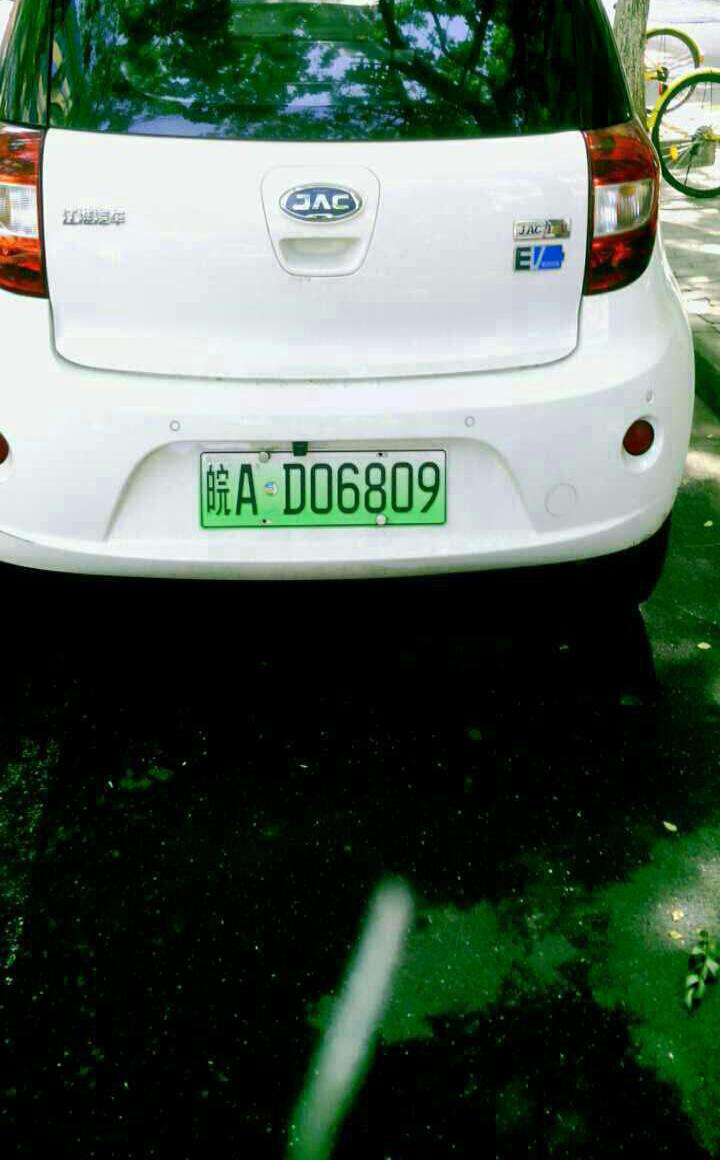car_id: (199, 449, 445, 525)
